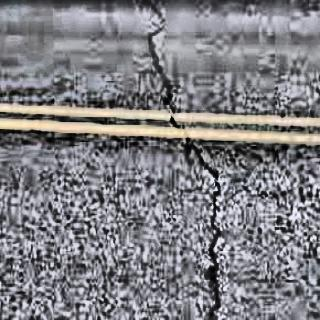crack: (138, 0, 223, 320)
